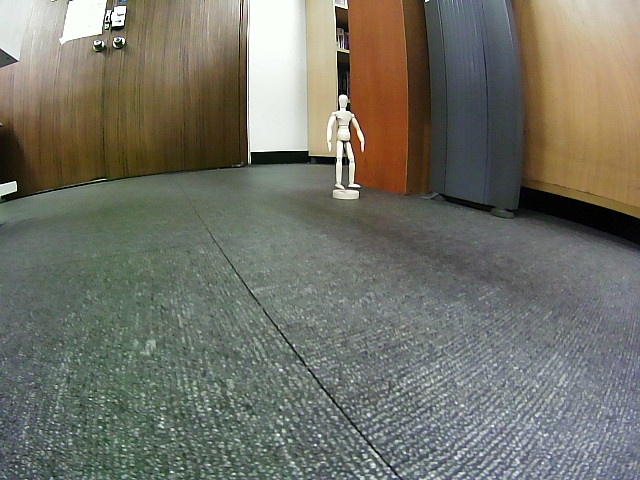person: (326, 94, 366, 191)
